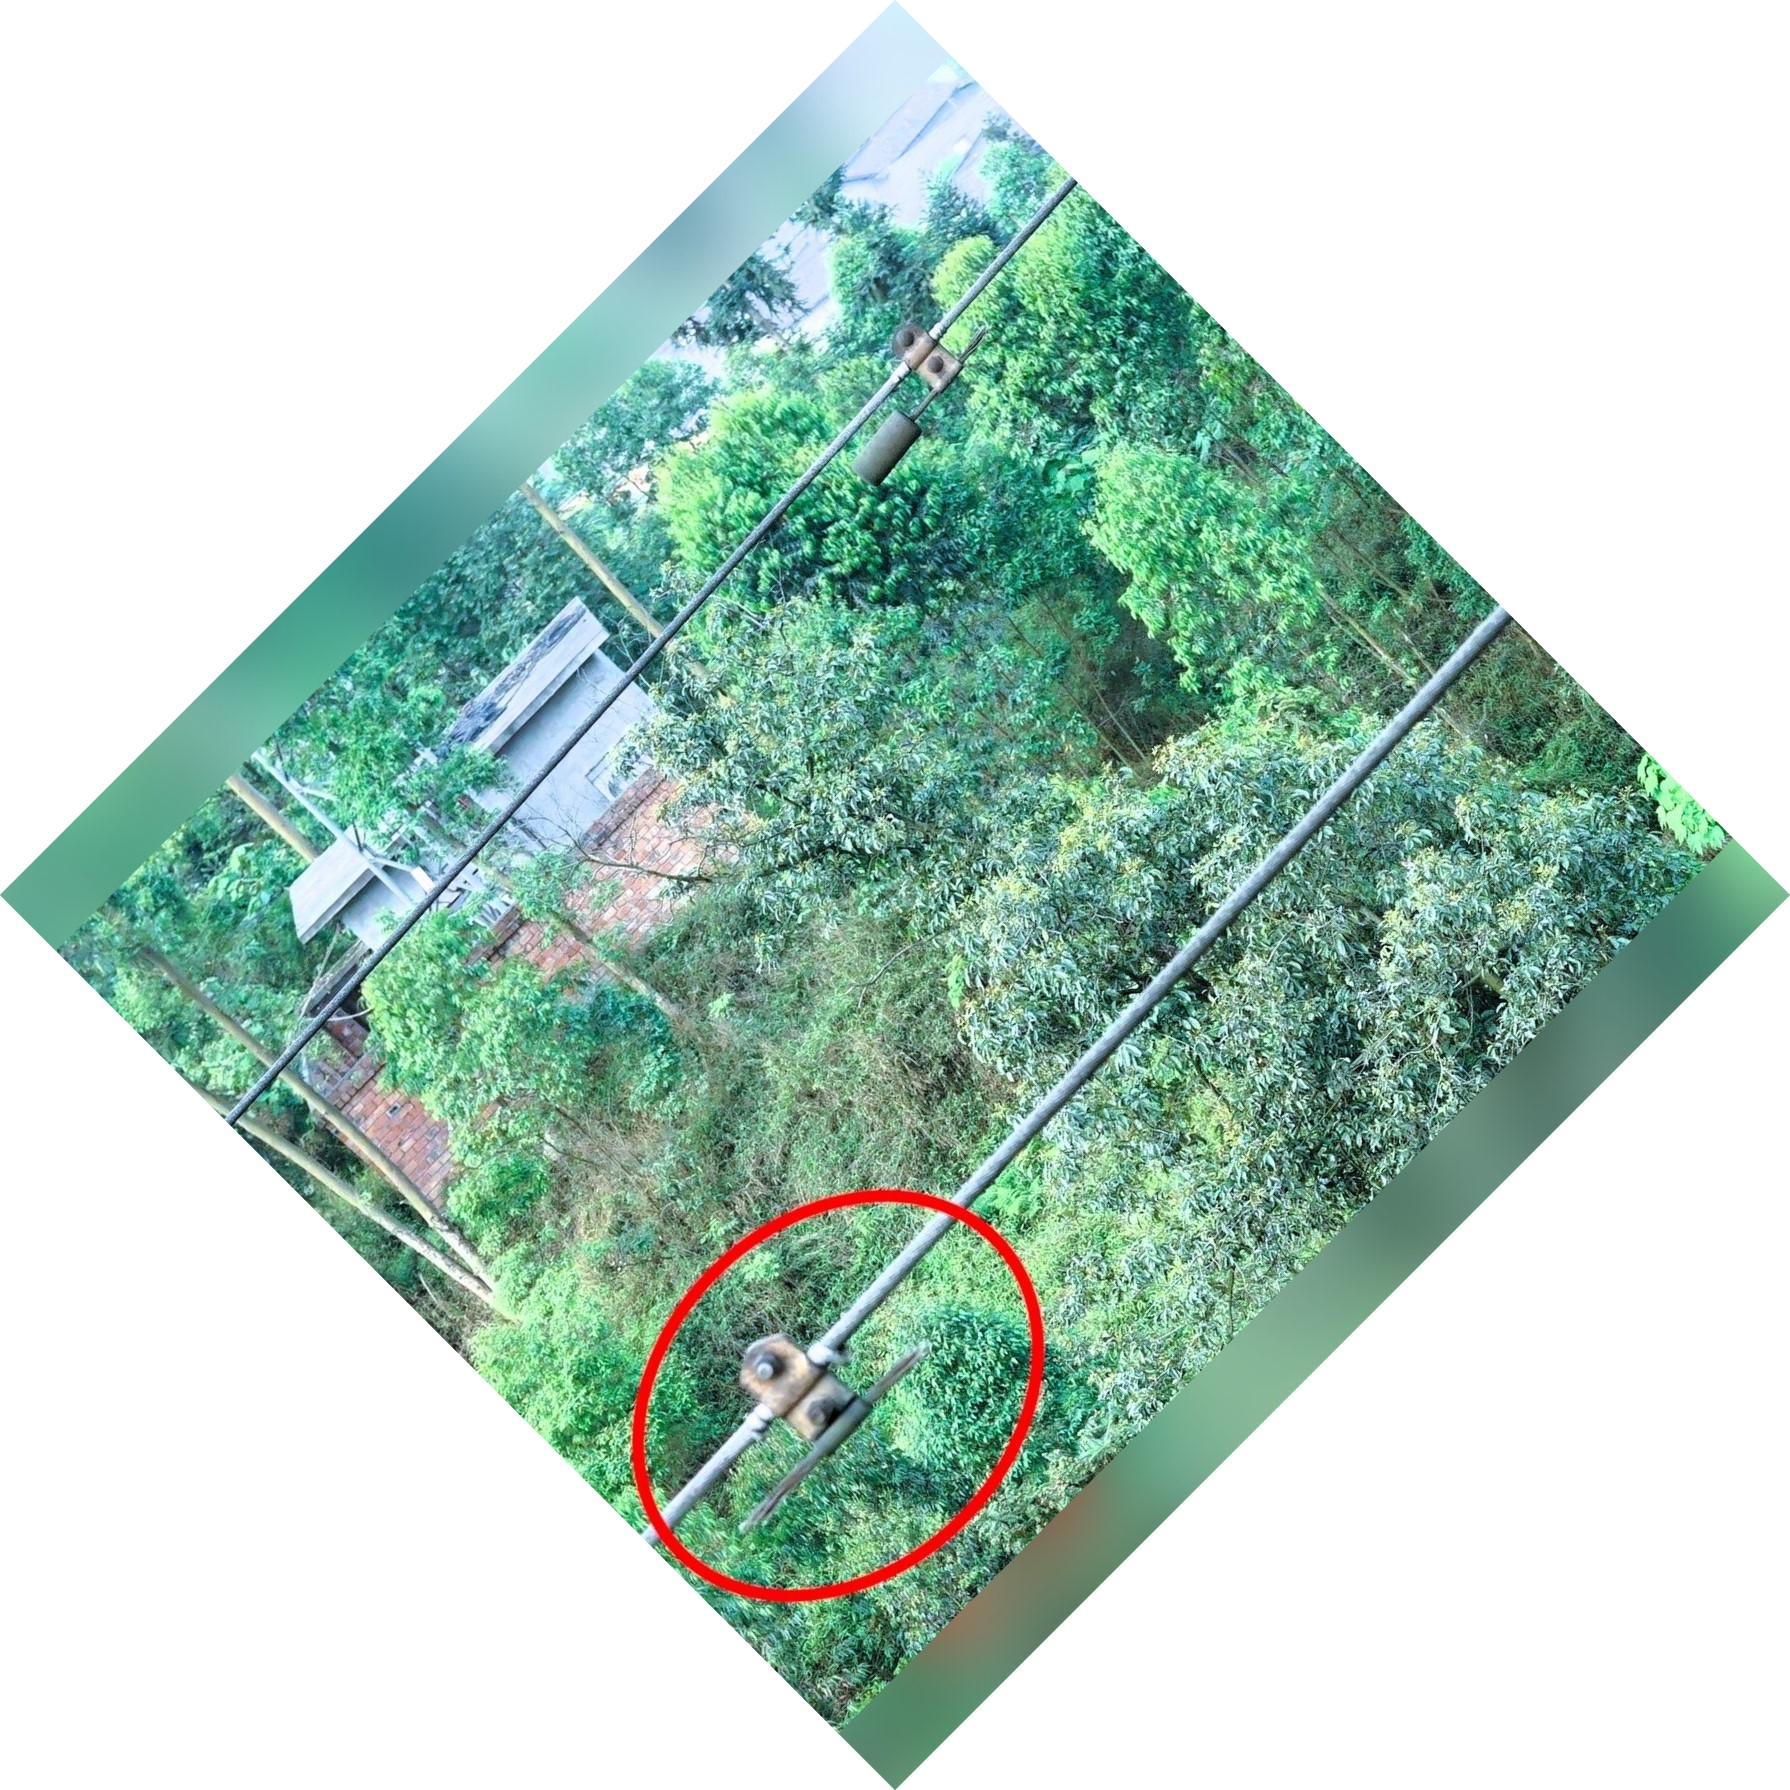Damage of shockproof hammer: (710, 1308, 949, 1554)
